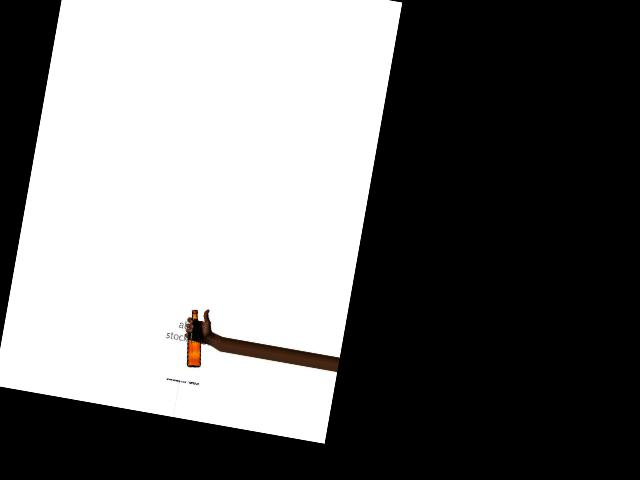beer: (182, 309, 210, 368)
